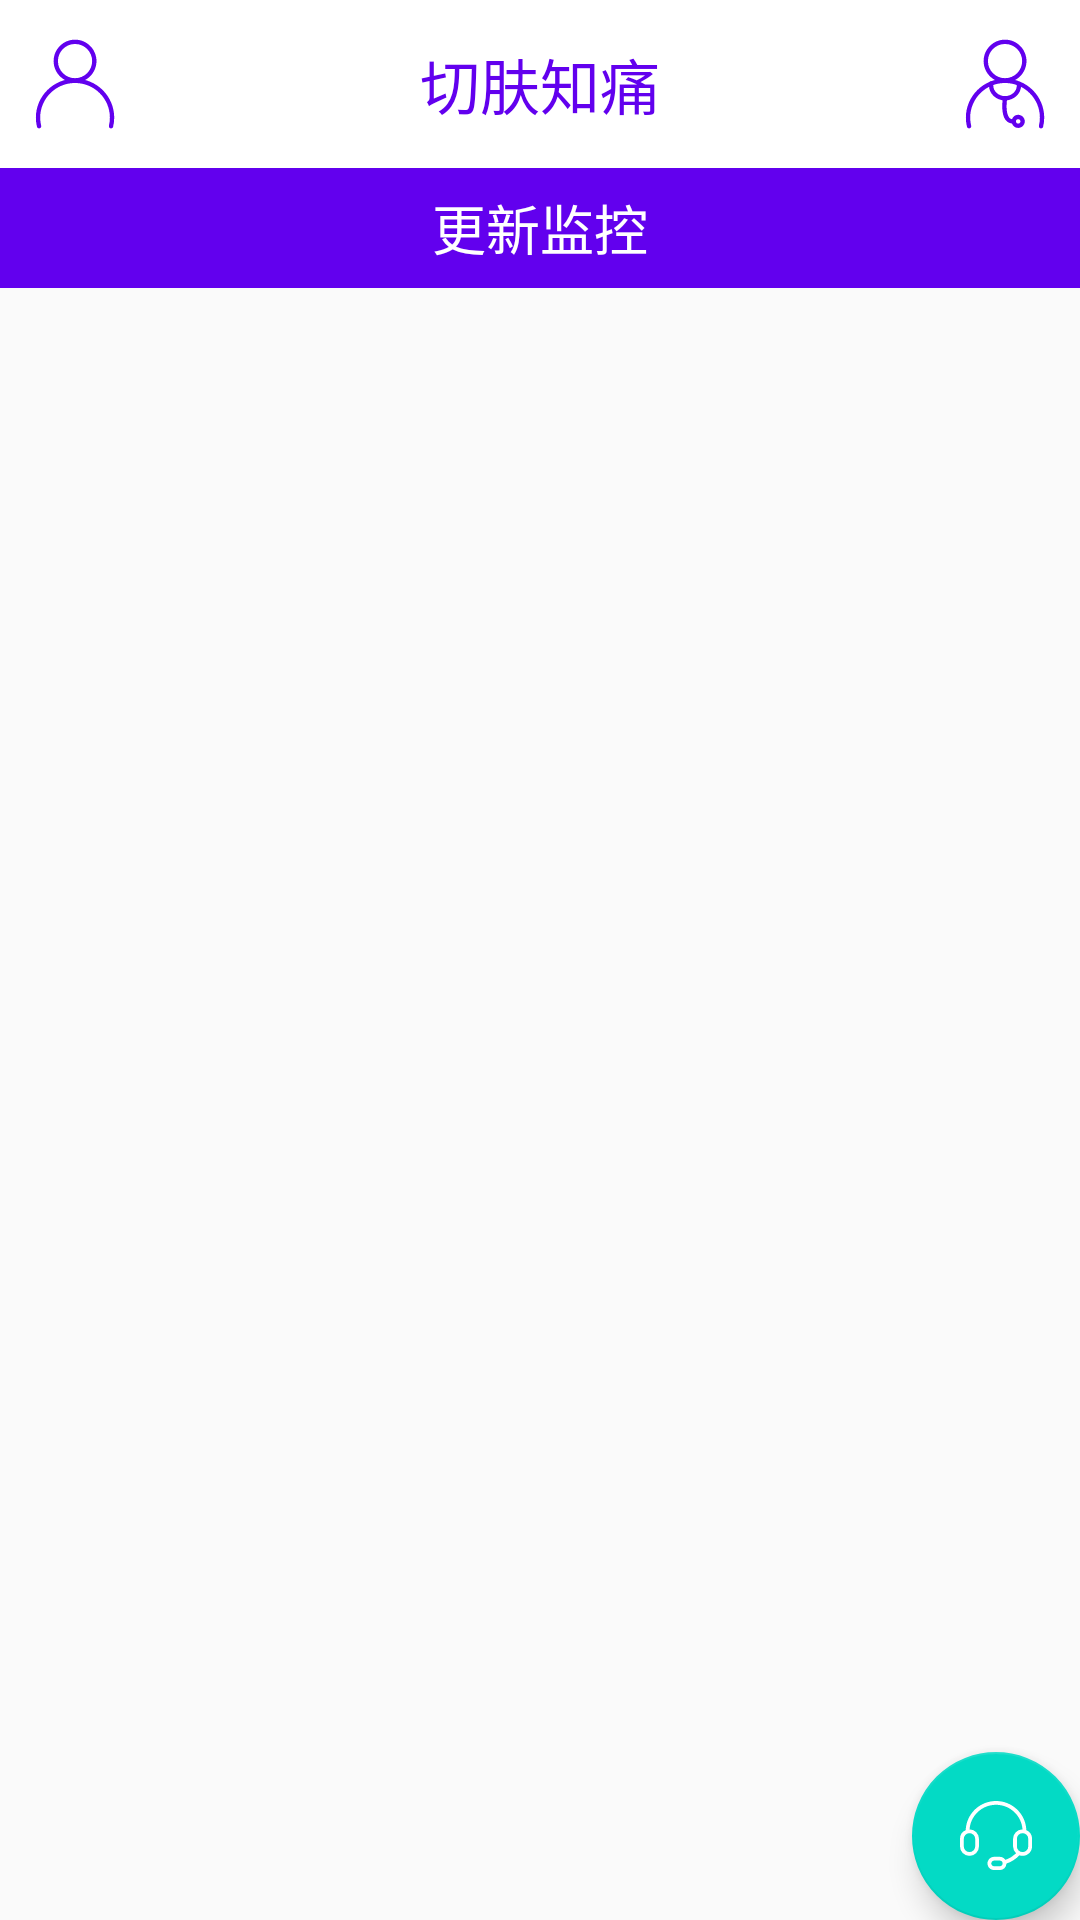

Where to tap for icons on this 1080w x 1920h app screen, as point (x, y):
ask: point (996, 1836)
doctor: point (1005, 84)
